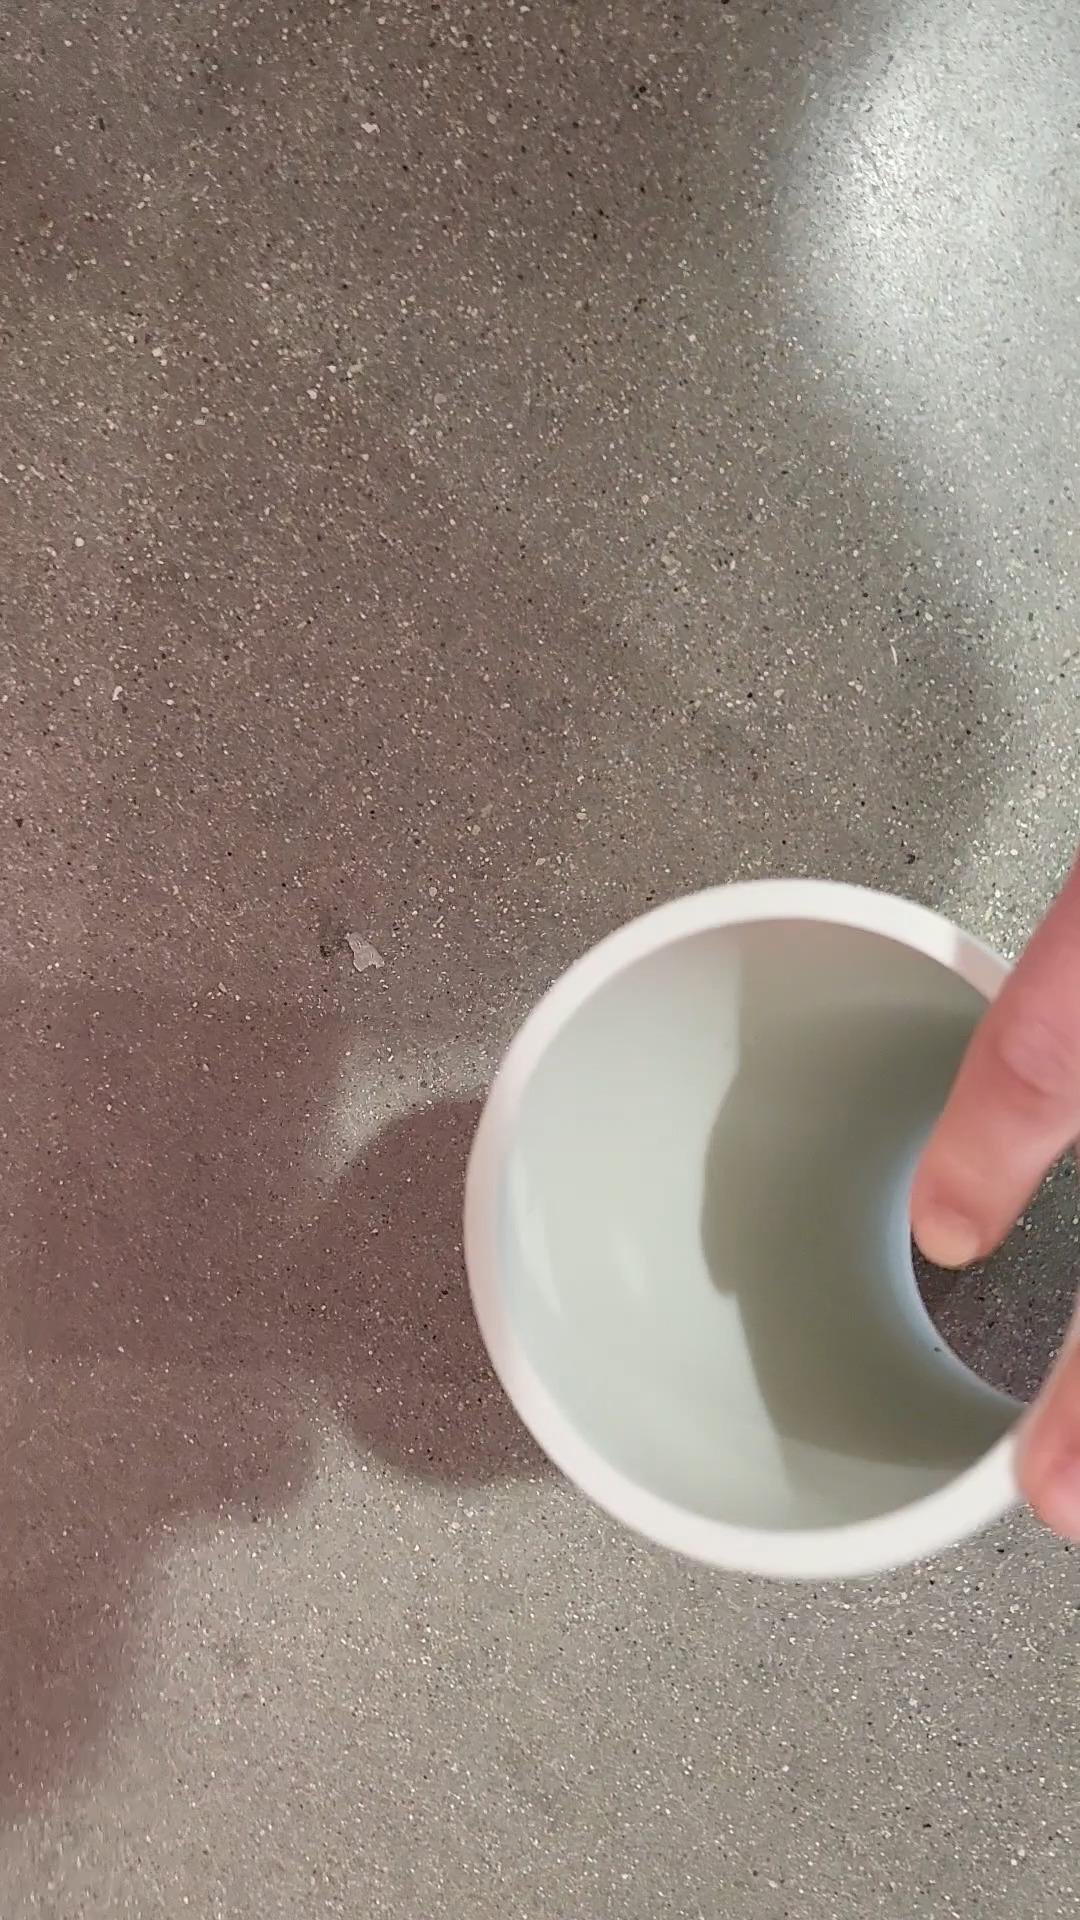coral: (465, 878, 1080, 1588)
